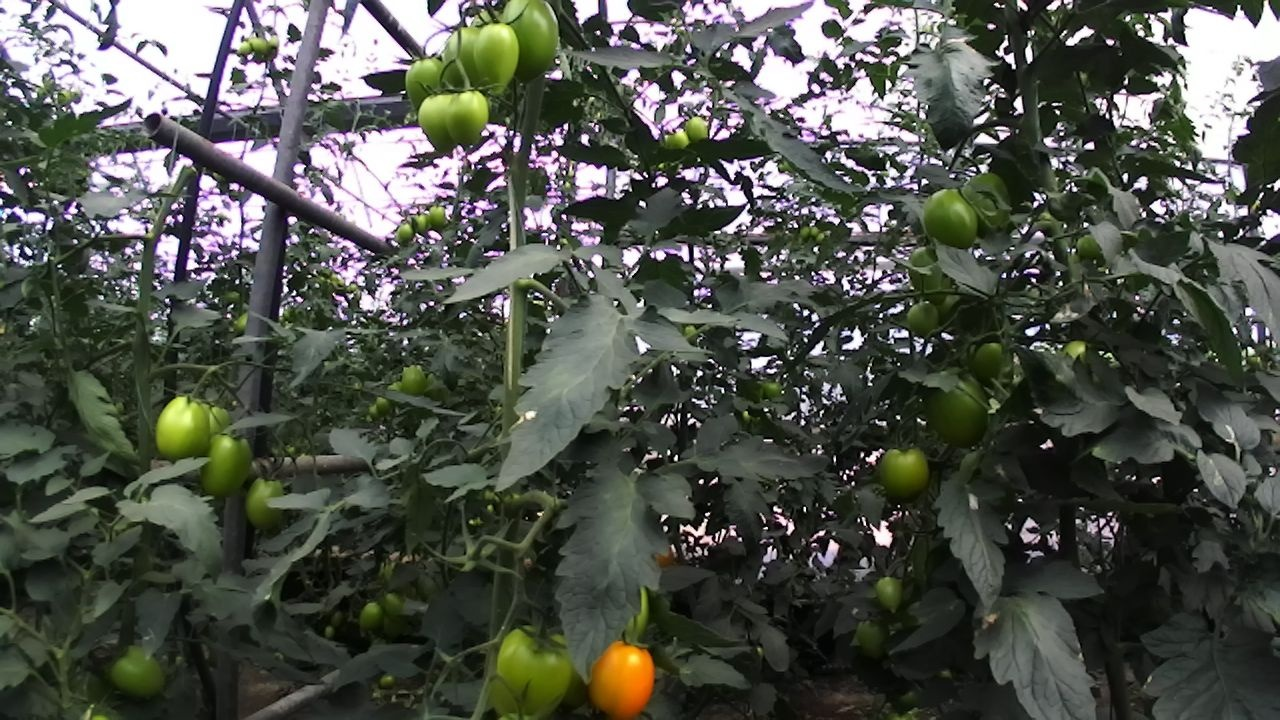tomato: (474, 620, 591, 720), (580, 627, 669, 720), (915, 360, 998, 458), (490, 0, 574, 93), (97, 634, 189, 714), (143, 386, 219, 471), (192, 424, 269, 507), (912, 179, 989, 260), (466, 16, 534, 101), (408, 85, 480, 160), (871, 436, 941, 513), (434, 18, 500, 96), (959, 326, 1029, 399), (395, 49, 462, 125), (436, 80, 500, 155), (234, 467, 296, 537), (899, 240, 952, 304), (849, 613, 899, 665), (869, 569, 915, 621), (902, 298, 947, 340), (679, 110, 721, 154), (393, 361, 435, 404), (352, 593, 390, 635), (374, 583, 411, 626), (659, 123, 697, 160), (406, 206, 436, 241), (390, 216, 417, 250), (424, 201, 451, 234), (248, 32, 275, 61), (758, 377, 786, 403), (231, 38, 256, 60)
